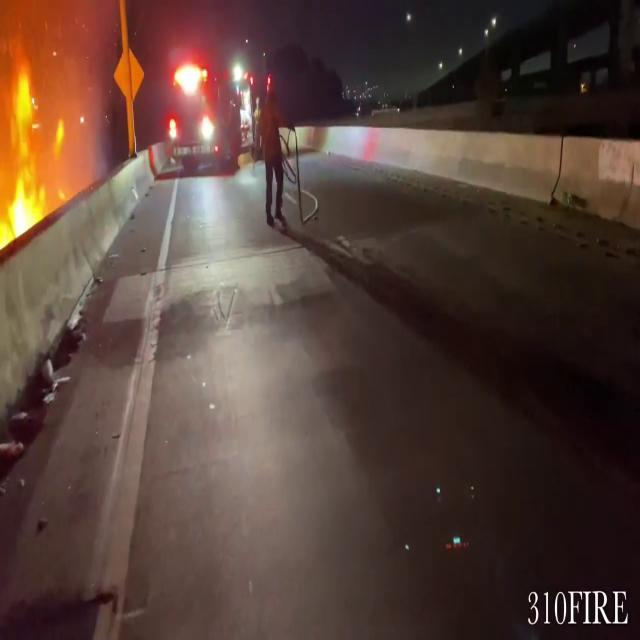Fire: (0, 56, 62, 265)
